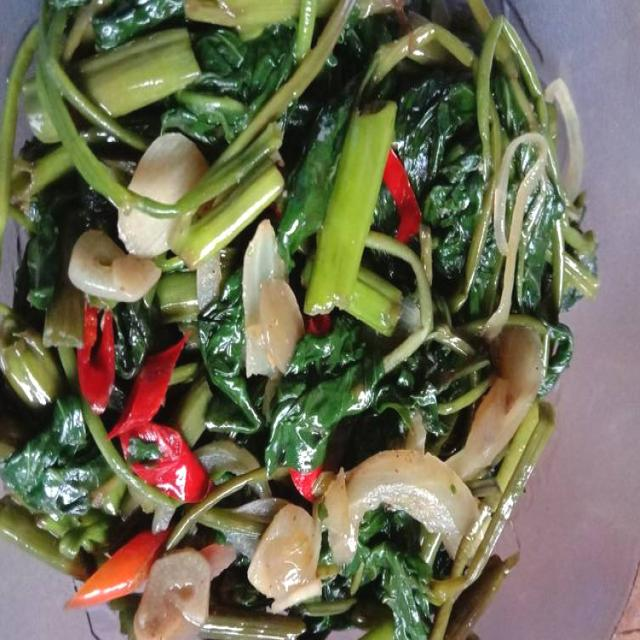tumis kangkung: (0, 0, 566, 640)
